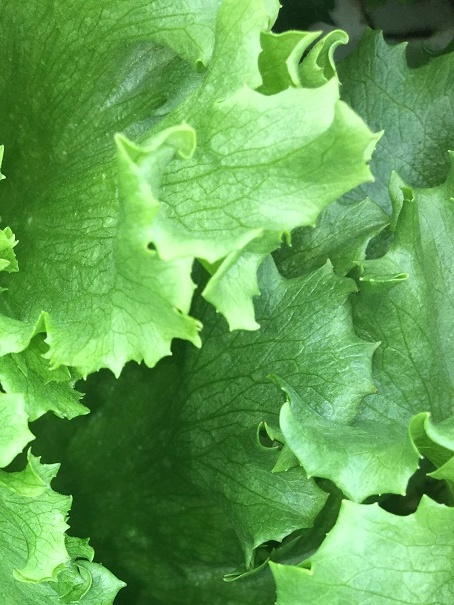tipburn: (370, 382, 382, 398)
